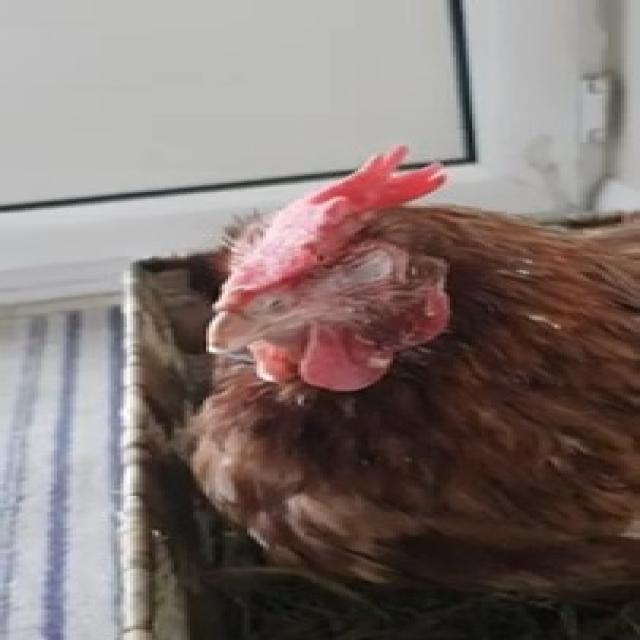sleeping chickens: (130, 158, 640, 608)
